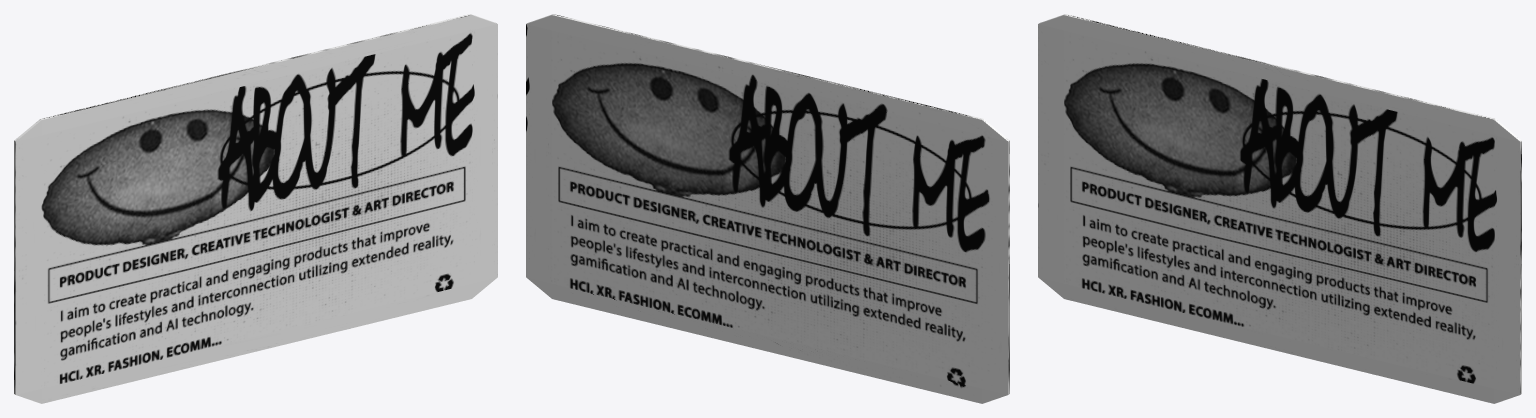
File: about-me-card.glb
3 views of the same model, side by side, from view 1: azimuth 30°, elevation 25°; view 2: azimuth 150°, elevation 25°; view 3: azimuth 330°, elevation 25° (orthographic).
Visible parts, largest first — view 1: Cube; view 2: Cube; view 3: Cube.
Boxes of the visible parts, x1,y1,x2,y2 form: Cube: [14, 14, 497, 403]; Cube: [526, 14, 1009, 403]; Cube: [1038, 14, 1521, 403].
Bounding box in the file's own units: 3.2 × 1.8 × 0.02.
Materials: 1 (1 with a texture image).
